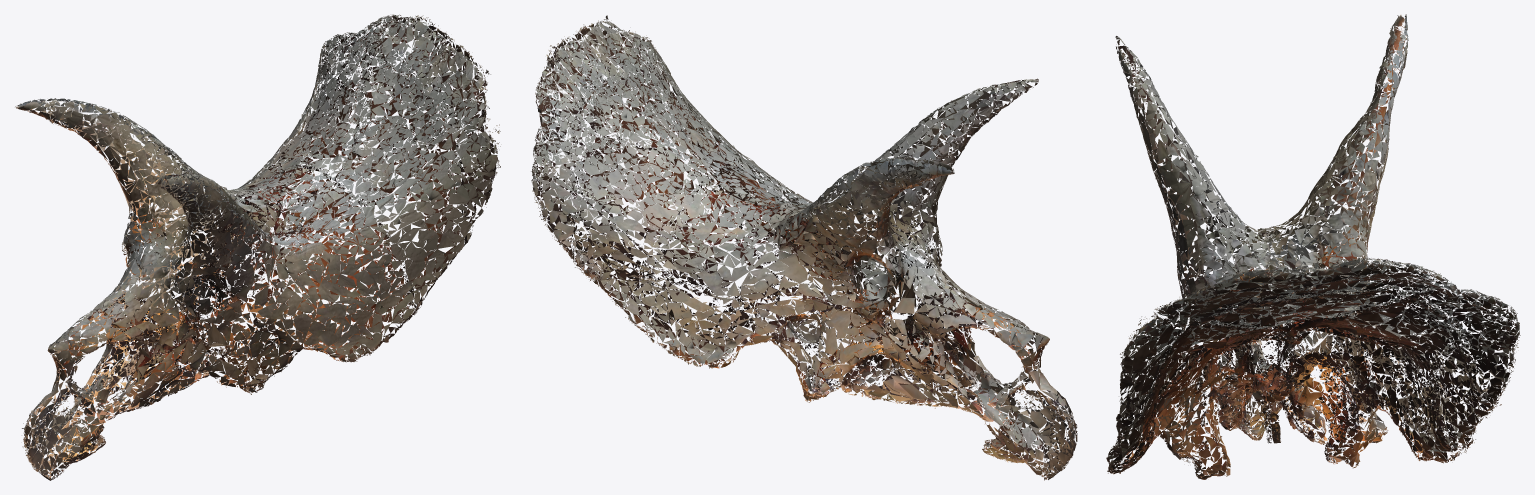
File: cranio.glb
3 views of the same model, side by side, from view 1: azimuth 30°, elevation 25°; view 2: azimuth 150°, elevation 25°; view 3: azimuth 270°, elevation 25° (orthographic). The views are drawn at different scales.
Visible parts, largest first — view 1: Object_3; view 2: Object_3; view 3: Object_3.
Part boxes in pixels (x1,y1,x2,y2): Object_3: (15, 14, 500, 480); Object_3: (531, 15, 1077, 480); Object_3: (1106, 14, 1520, 479).
Bounding box in the file's own units: 8.24 × 5.75 × 4.9.
1 material, 1 textured.
